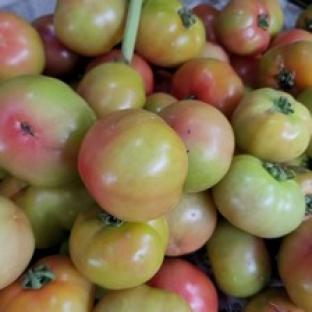Tomato: (78, 109, 188, 221), (0, 74, 96, 186), (70, 205, 168, 289), (212, 155, 305, 238), (159, 99, 235, 192), (232, 88, 311, 161), (12, 184, 93, 249), (0, 255, 94, 311), (207, 219, 271, 298), (170, 58, 243, 118), (77, 62, 146, 118), (148, 257, 218, 311), (165, 191, 217, 256), (0, 195, 34, 292), (33, 13, 82, 79), (0, 10, 45, 80), (278, 218, 311, 311), (258, 41, 311, 96), (92, 285, 191, 311), (244, 286, 305, 311), (193, 2, 220, 43), (229, 55, 260, 89), (130, 53, 154, 94), (271, 28, 311, 47), (197, 41, 229, 62), (144, 92, 176, 112), (294, 3, 311, 32), (154, 67, 172, 93)
